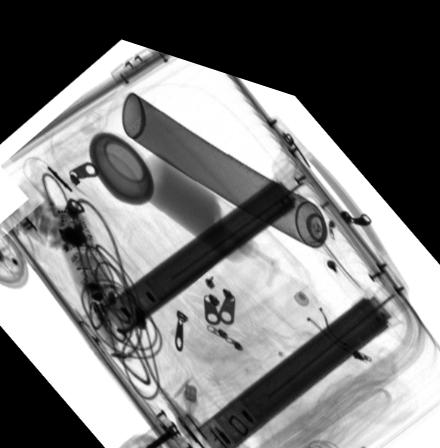Sprayer: (121, 83, 352, 237)
